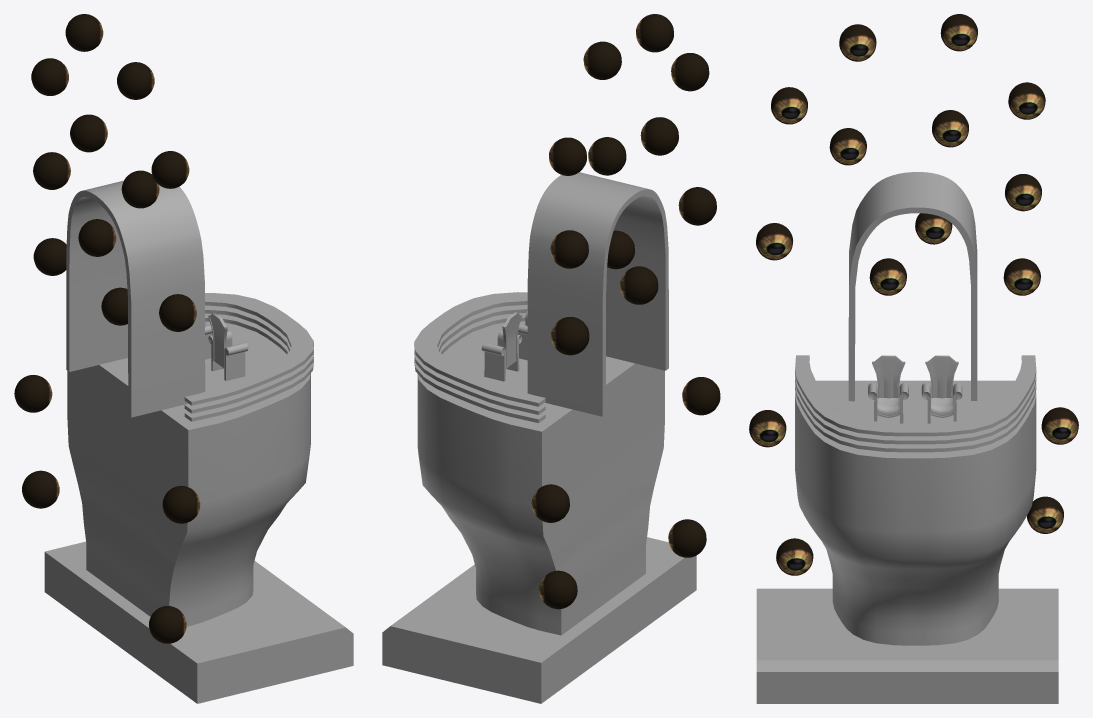
File: theater_puzzle_balcony.fbx
3 views of the same model, side by side, from view 1: azimuth 30°, elevation 25°; view 2: azimuth 150°, elevation 25°; view 3: azimuth 270°, elevation 25° (orthographic). The views are drawn at different scales.
Visible parts, largest first — view 1: pCube1621; view 2: pCube1621; view 3: pCube1621.
Part boxes in pixels (bbox=[...]): pCube1621: bbox=[14, 14, 353, 703]; pCube1621: bbox=[382, 14, 720, 703]; pCube1621: bbox=[749, 14, 1078, 703].
Bounding box in the file's own units: 807 × 2354 × 1157.
